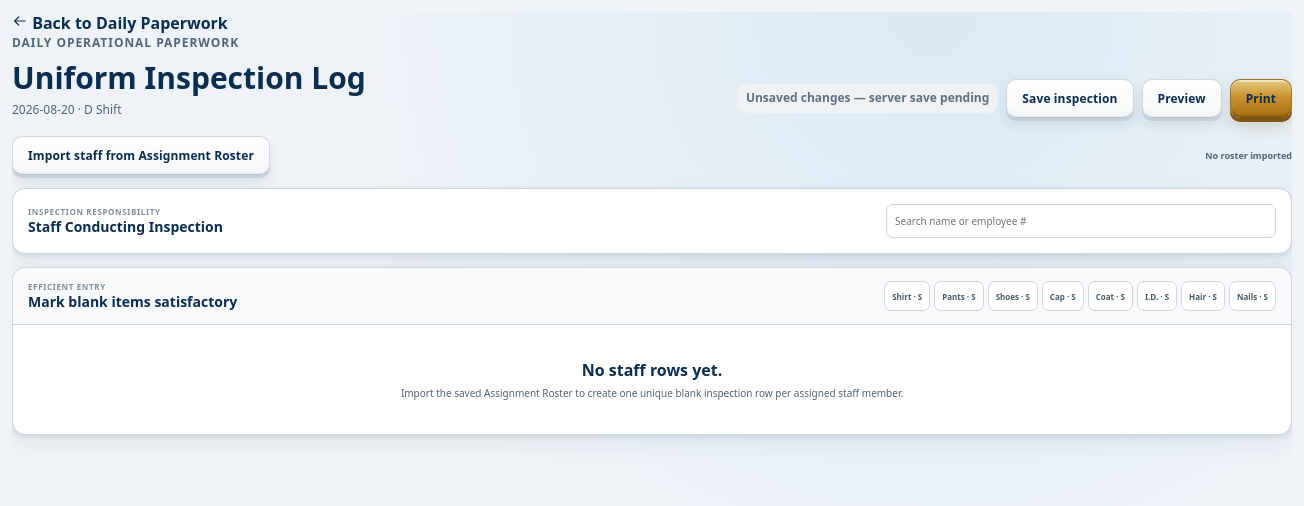
Scenario: Uniform Inspection editor › imports unique staff from the saved assignment roster
Click the button "Import staff from Assignment Roster" at coordinates (141, 156), box [12,136,270,175]
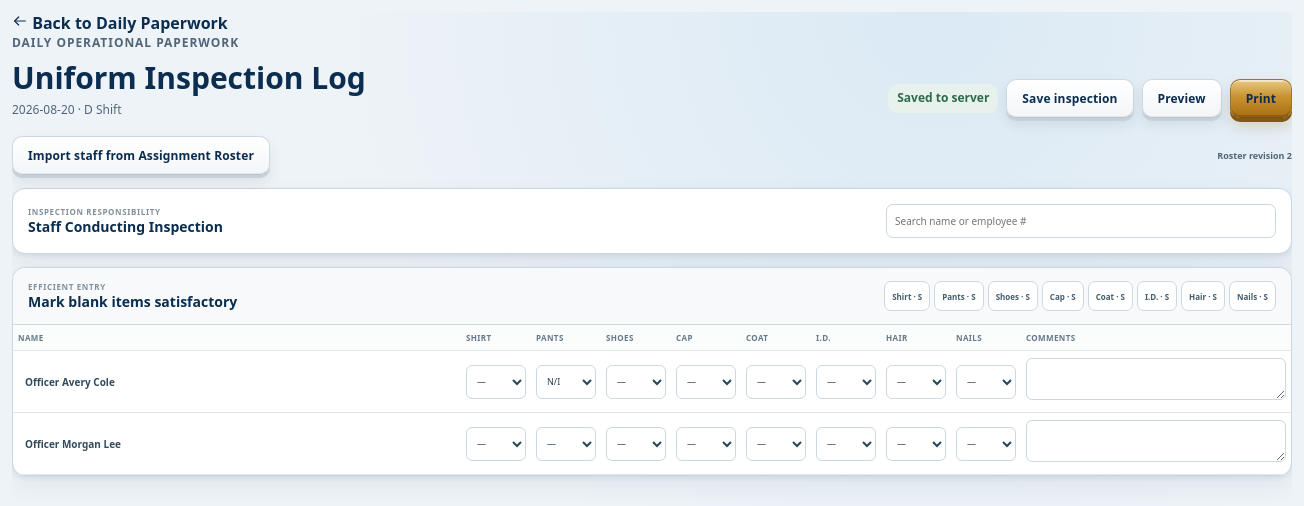
Check: the column heading "Officer Avery Cole" is shown, box [13,350,461,412]
